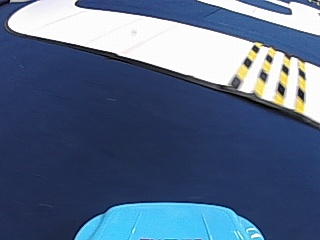bump: (228, 41, 306, 106)
